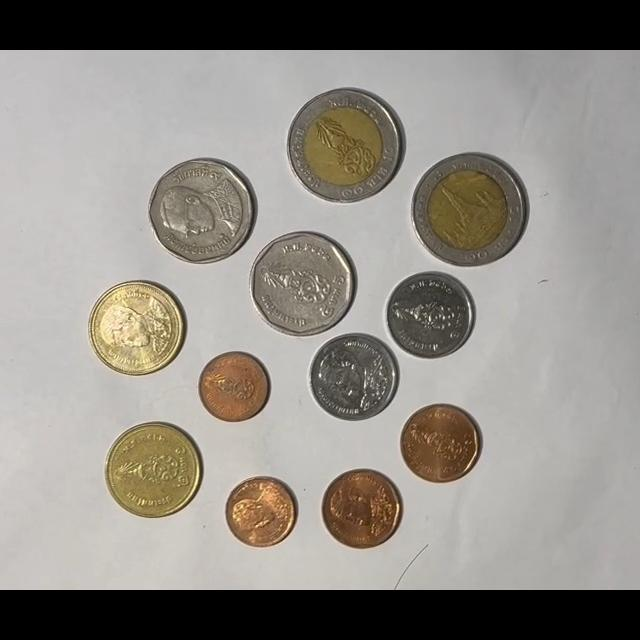1-baht: (385, 271, 475, 360), (309, 333, 399, 422)
10-baht: (287, 87, 404, 204), (411, 152, 527, 266)
2-baht: (104, 422, 202, 519), (88, 281, 184, 377)
25-satang: (224, 476, 298, 549), (198, 351, 269, 422)
5-baht: (148, 159, 256, 265), (250, 231, 356, 338)
50-satang: (321, 469, 402, 550), (399, 404, 481, 484)
